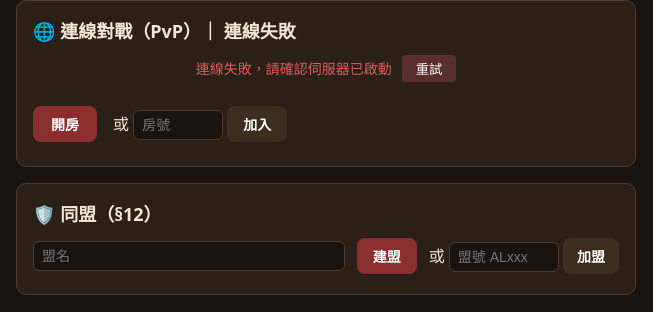
it: Pvp（連線對戰）連線逾時 + 重試 › 點重試會關閉舊 socket、重新嘗試連線
The width and height of the screenshot is (653, 312).
Click the button "重試": click(429, 68) [402,55,456,82]
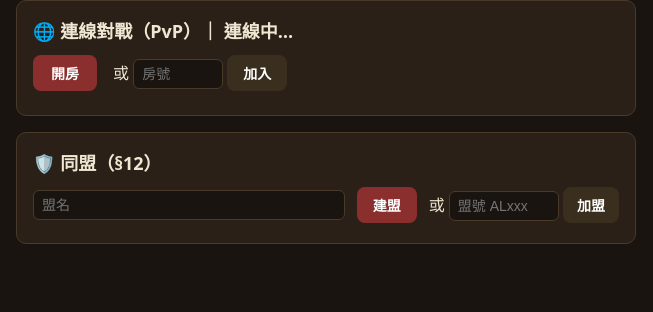
Result: the heading "🌐 連線對戰（PvP）｜ 連線中…" is shown at [33,19,293,43]
